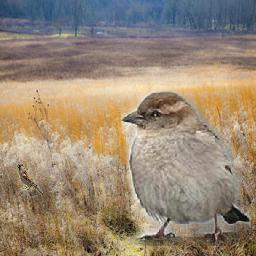Sparrow: (121, 90, 251, 246), (17, 163, 44, 195)
